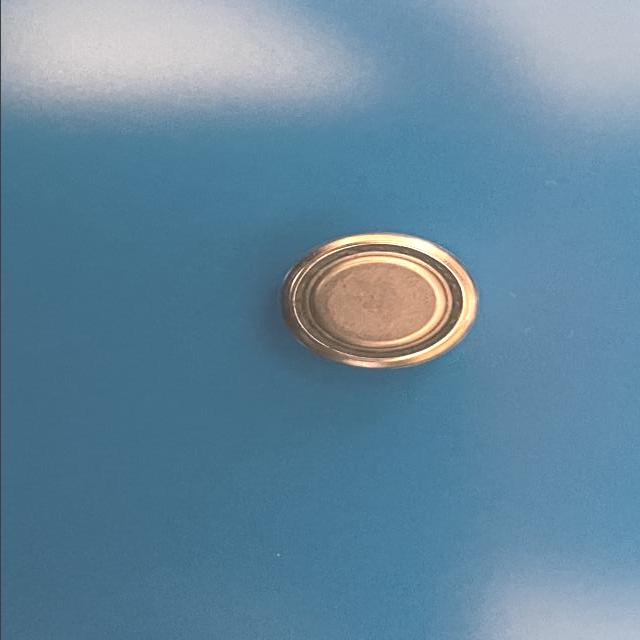COIN: (278, 232, 478, 368)
